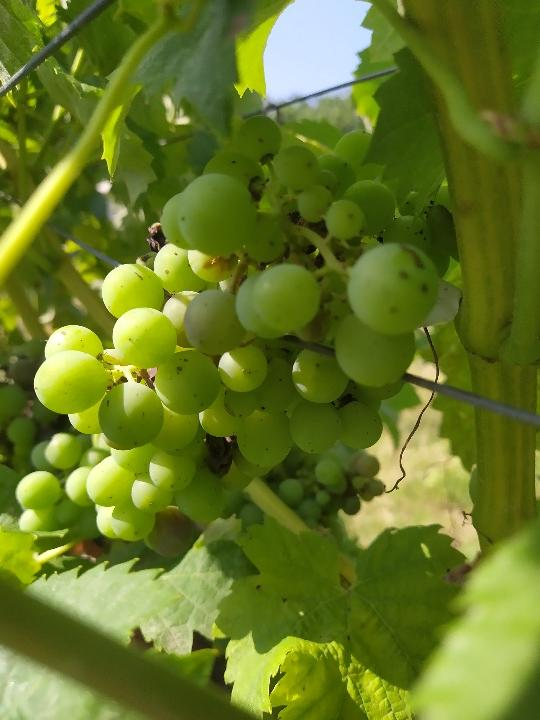grape: (15, 117, 455, 563)
